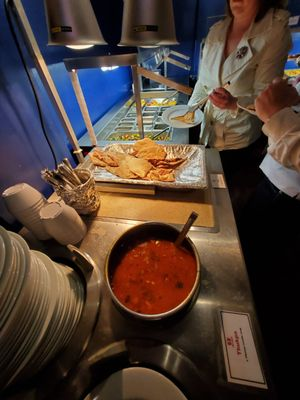salad: (172, 210, 198, 249)
sushi: (103, 219, 201, 324)
